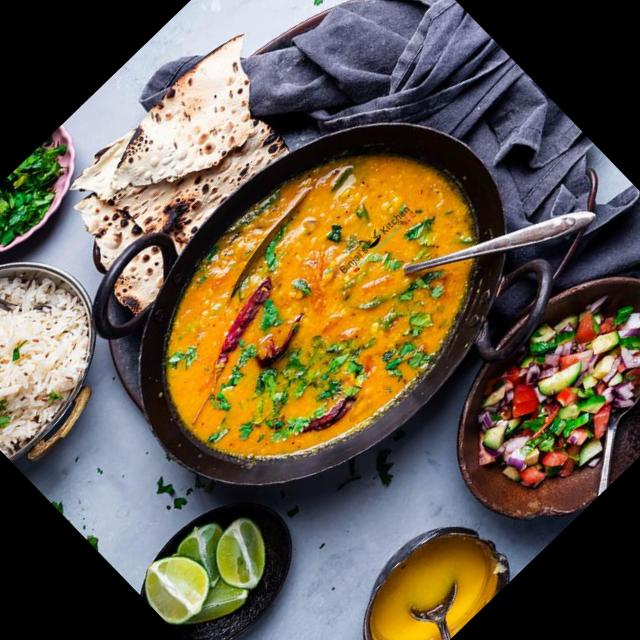dal: (106, 83, 544, 520)
rice: (0, 239, 125, 459)
